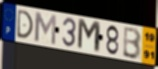3: (62, 17, 78, 49)
8: (106, 25, 119, 56)
B: (122, 26, 142, 61)
D: (16, 9, 35, 40)
M: (77, 17, 102, 55), (33, 11, 57, 47)
